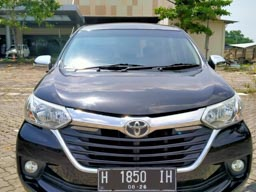plat: (97, 170, 175, 184)
